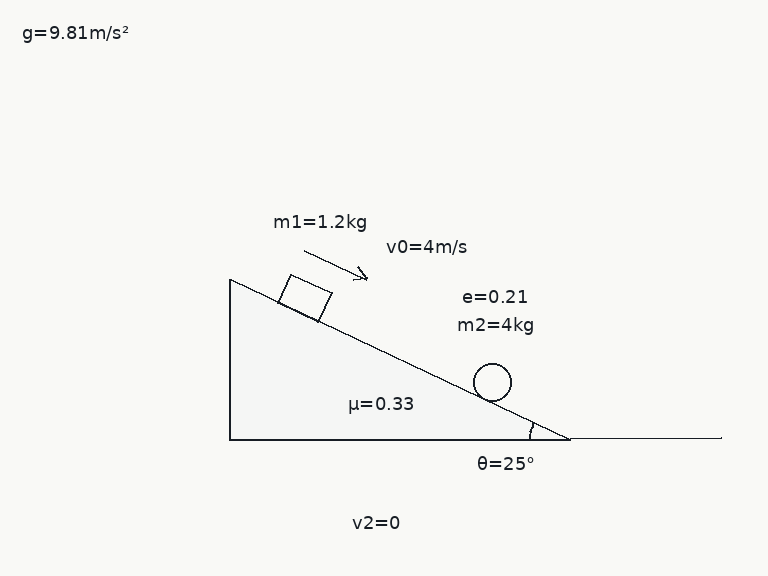ball: (471, 361, 513, 403)
block: (276, 271, 333, 323)
ramp: (228, 279, 572, 441)
